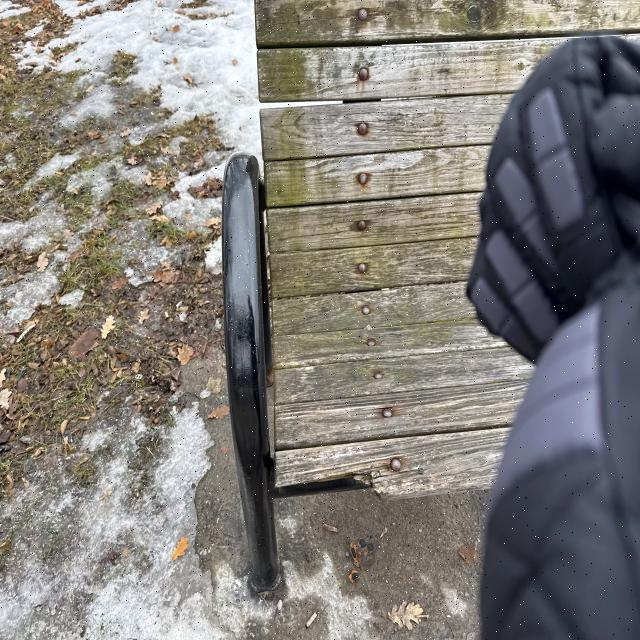Bench: (219, 0, 486, 594)
